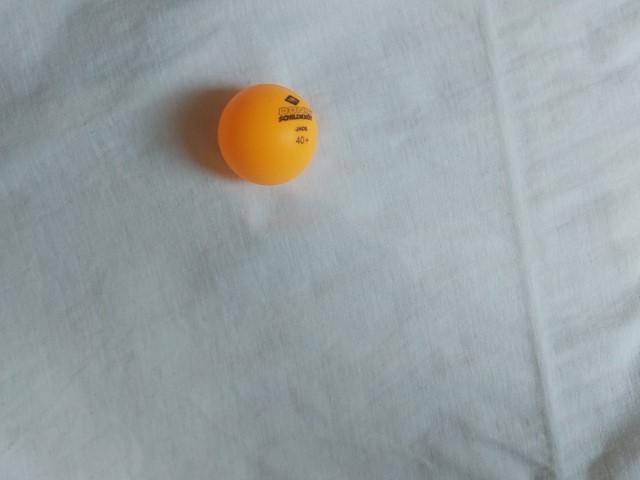oball: (209, 78, 329, 190)
